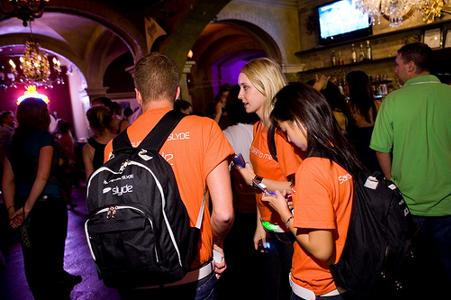person: (260, 85, 373, 300)
